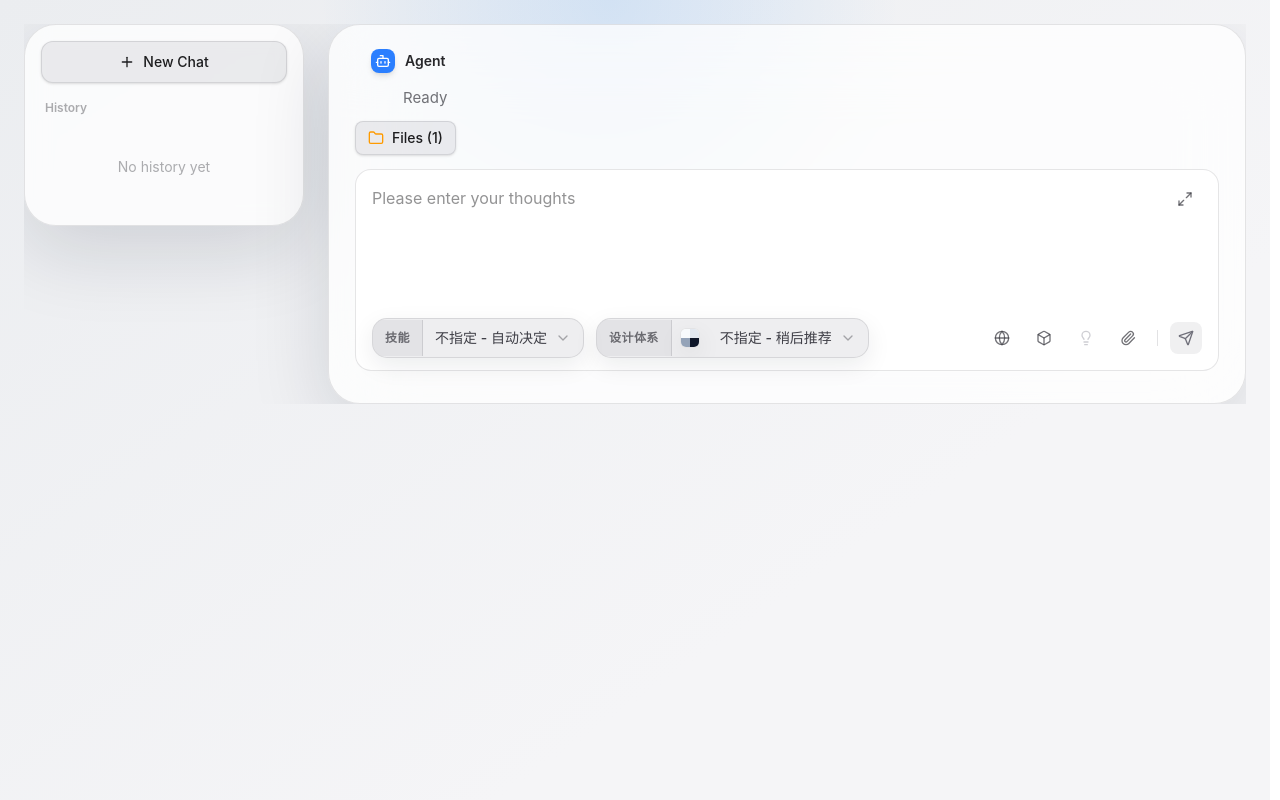
ChatHomePage previews › shows an office preview error instead of a loading spinner when opening an xlsx preview fails
Click the button "Files (1)": (406, 138) [355,120,456,154]
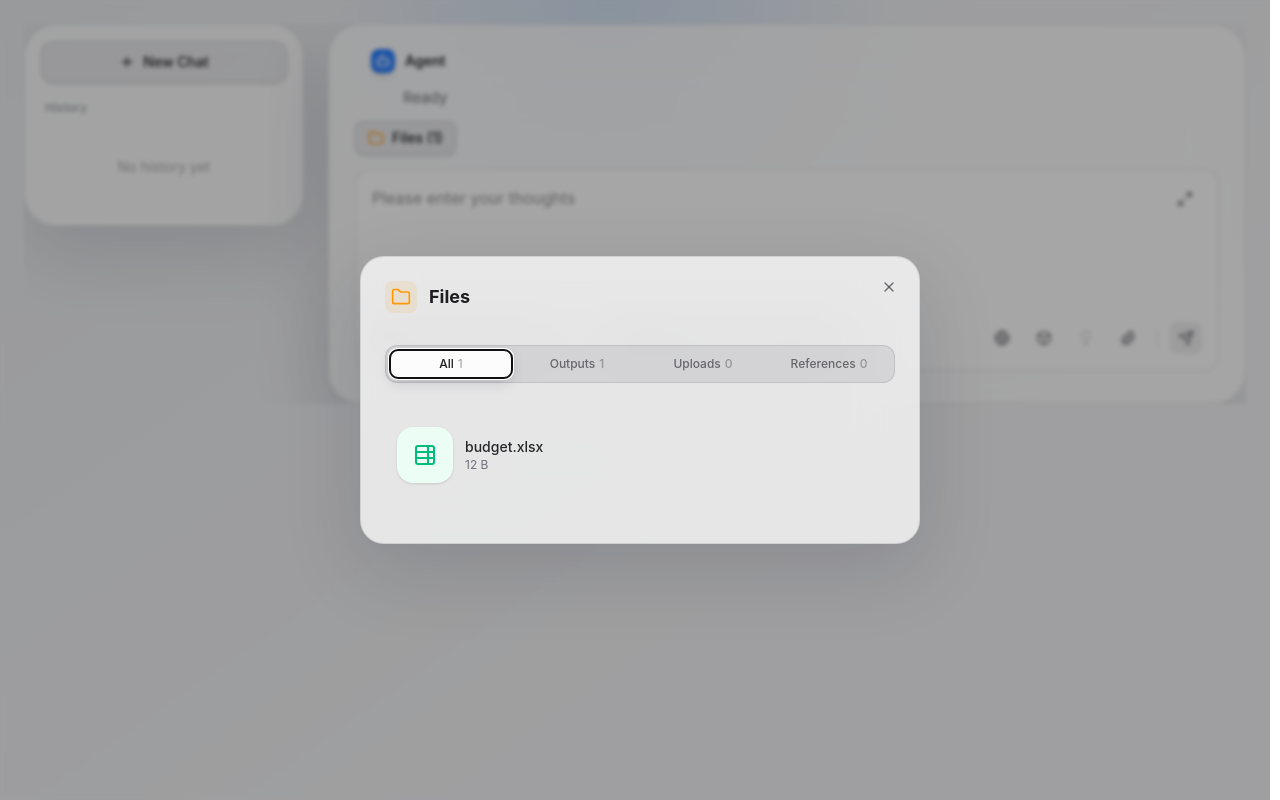
Click the text "budget.xlsx": (504, 446) [465,438,543,455]
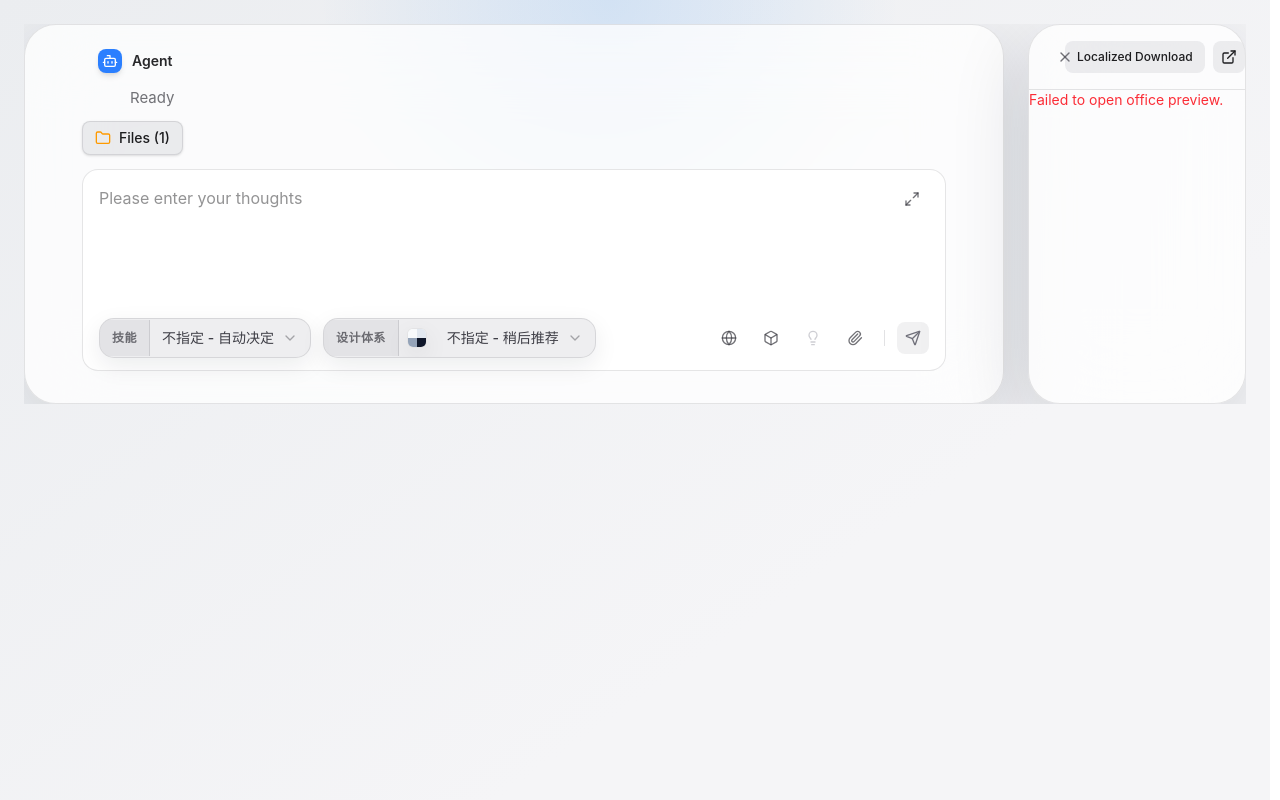
Now the text "Failed to open office preview." is shown, box [1029,90,1245,110]
